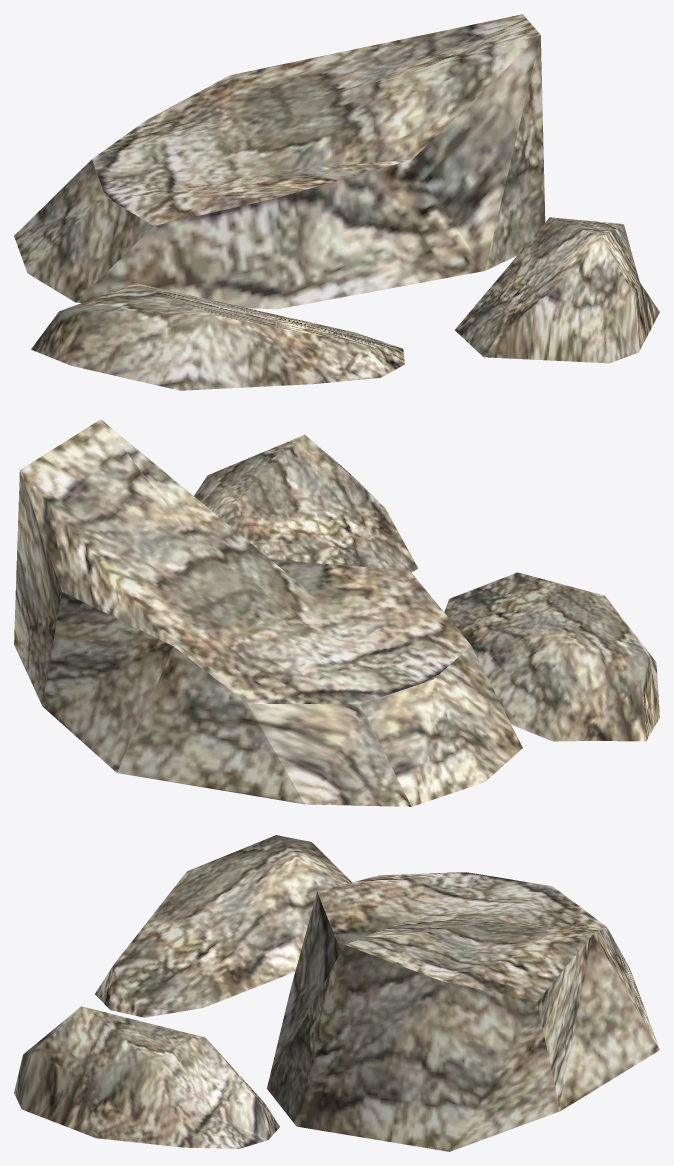
Rendered from geo_medit_03.dae.
3 views of the same model, one above another, from view 1: azimuth 30°, elevation 25°; view 2: azimuth 150°, elevation 25°; view 3: azimuth 270°, elevation 25° (orthographic). The views are drawn at different scales.
Parts seen in each view (by area): view 1: stonemine_granite_c-Pivot; view 2: stonemine_granite_c-Pivot; view 3: stonemine_granite_c-Pivot.
Boxes of the visible parts, box(x1,y1,x2,y2) form: stonemine_granite_c-Pivot: box(14, 14, 659, 390); stonemine_granite_c-Pivot: box(14, 419, 659, 806); stonemine_granite_c-Pivot: box(14, 835, 659, 1151).
Size of the model in its own units: 7.57 by 7.51 by 2.49.
